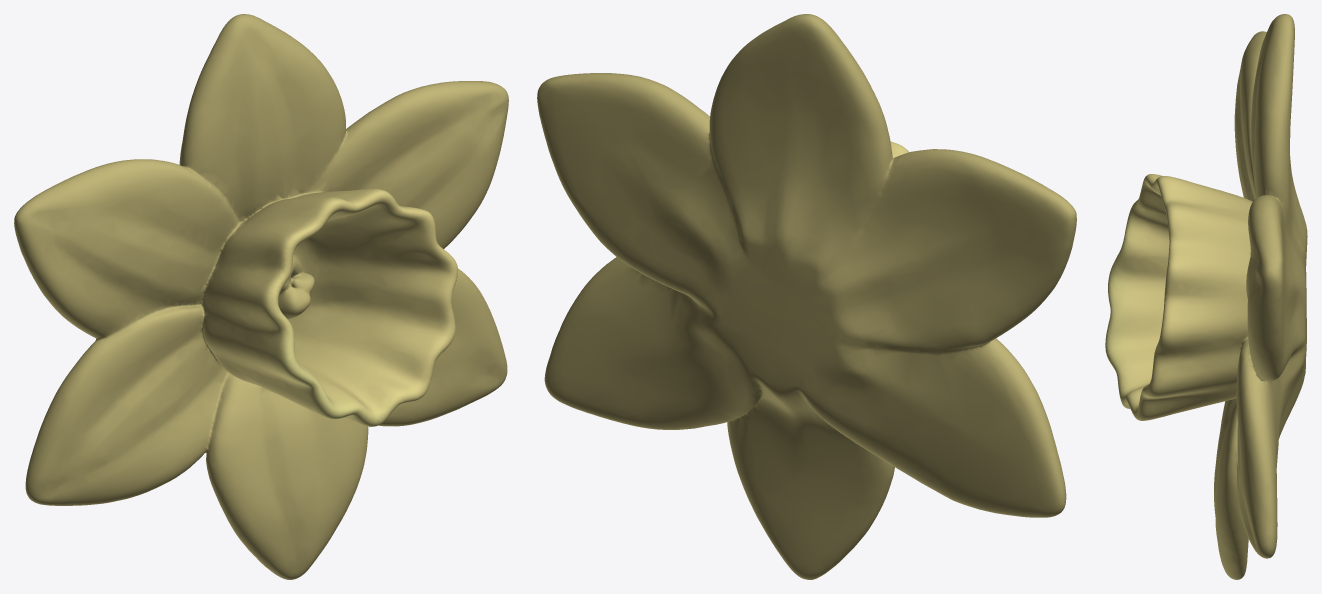
The model's file is daffodil.glb.
The picture shows the model from 3 angles, left to right: view 1: azimuth 30°, elevation 25°; view 2: azimuth 150°, elevation 25°; view 3: azimuth 270°, elevation 25°; orthographic projection. The views are drawn at different scales.
Parts seen in each view (by area): view 1: daffodil; view 2: daffodil; view 3: daffodil.
Boxes of the visible parts, x1,y1,x2,y2 form: daffodil: (14, 14, 508, 579); daffodil: (537, 14, 1076, 579); daffodil: (1105, 14, 1307, 579).
Size of the model in its own units: 0.9422 by 1 by 0.333.
